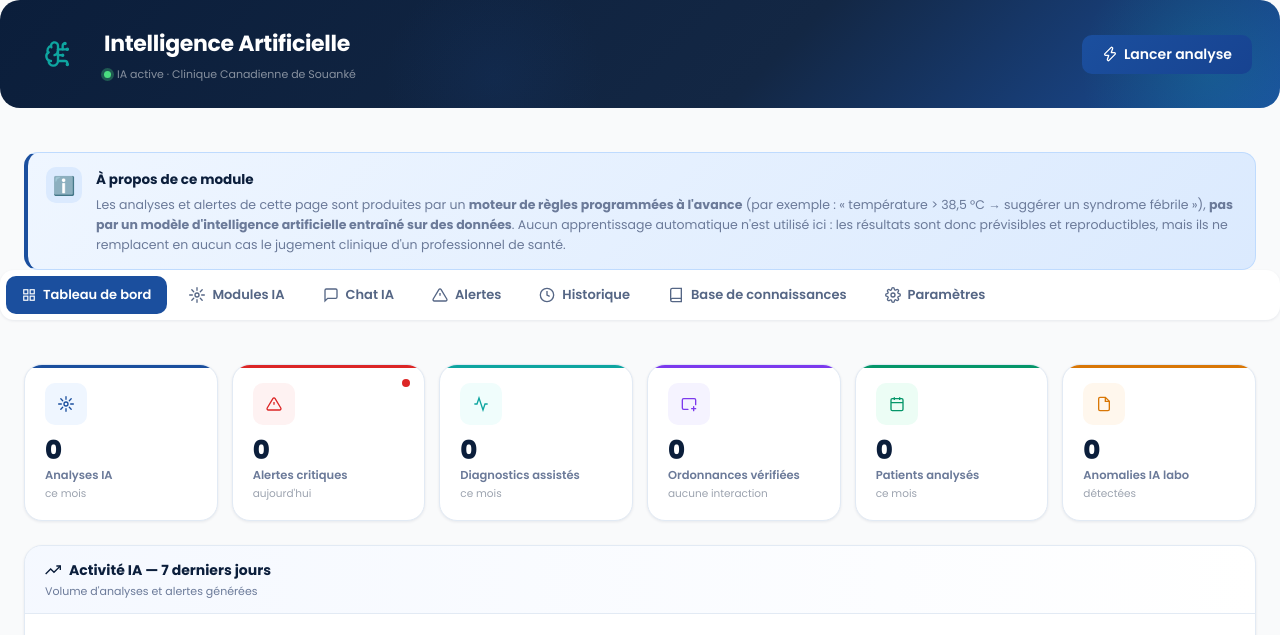
Test case: AI/Base de connaissances — charge automatiquement les vraies références, jamais le placeholder
The width and height of the screenshot is (1280, 635).
Click the button "Base de connaissances" at (757, 295), box [652,276,862,314]
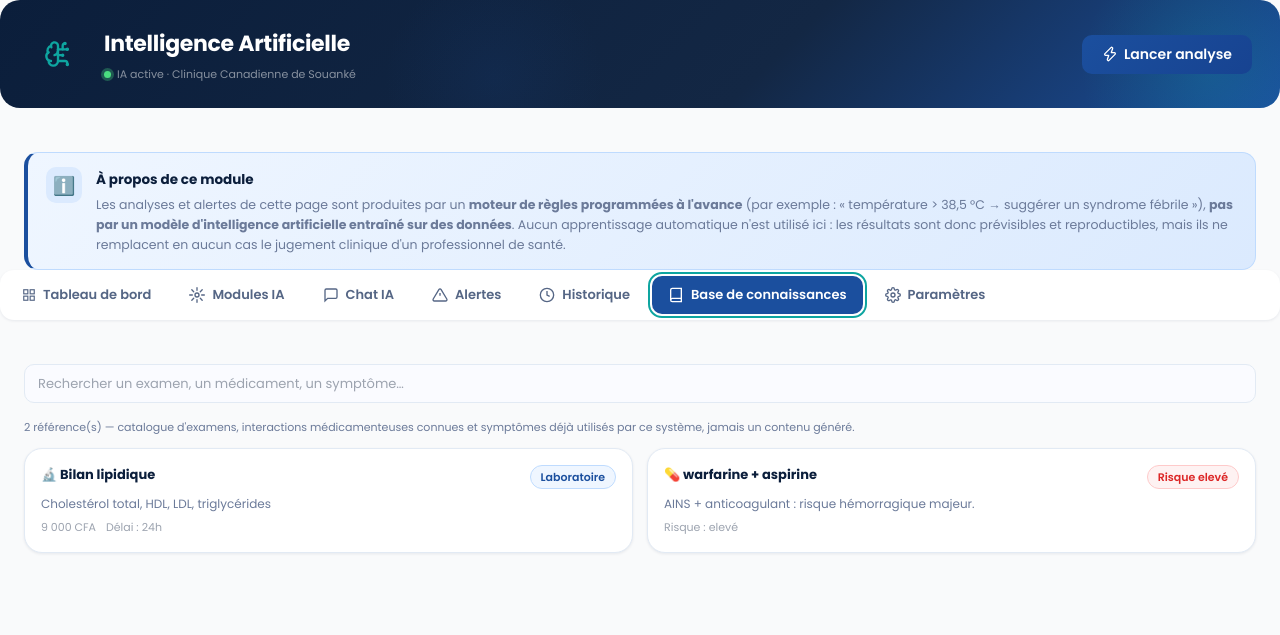
expect the text "🔬 Bilan lipidique" is shown: met, box [41,464,155,484]
expect the text "💊 warfarine + aspirine" is shown: met, box [664,464,817,484]
